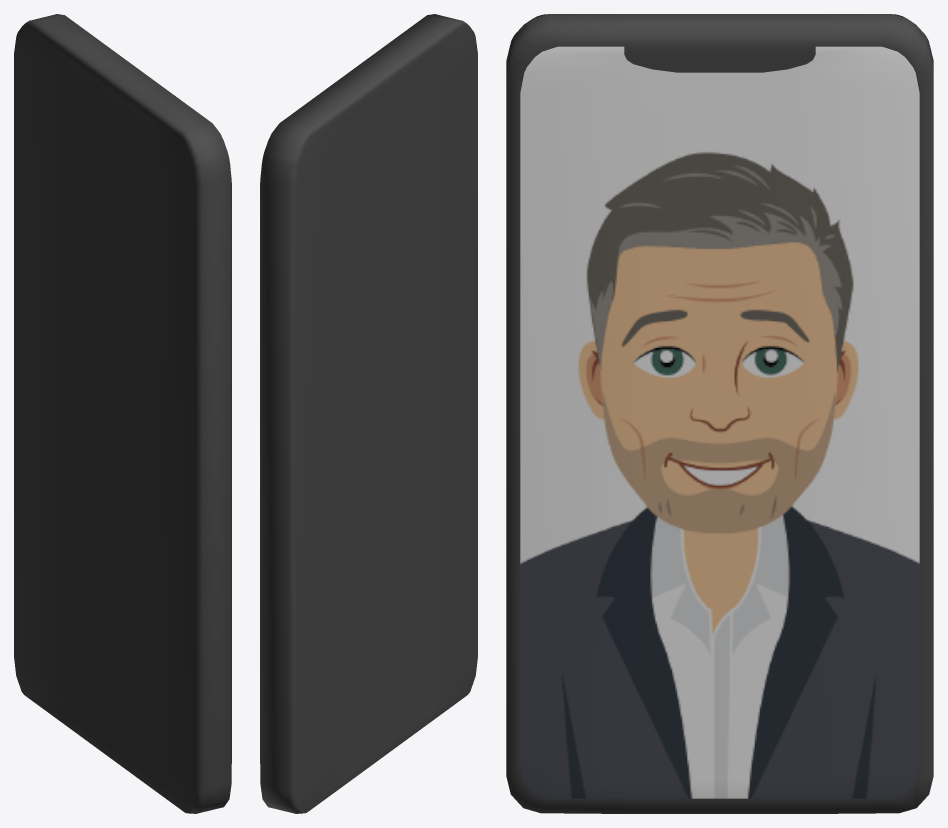
File: Phone.gltf
3 views of the same model, side by side, from view 1: azimuth 30°, elevation 25°; view 2: azimuth 150°, elevation 25°; view 3: azimuth 270°, elevation 25° (orthographic). The views are drawn at different scales.
Visible parts, largest first — view 1: MainPhone; view 2: MainPhone; view 3: MainPhone.
Boxes of the visible parts, box(x1,y1,x2,y2) form: MainPhone: box(14, 14, 231, 813); MainPhone: box(260, 14, 477, 813); MainPhone: box(506, 14, 933, 813).
Size of the model in its own units: 0.2145 by 3.44 by 1.7.
Materials: 2 (1 with a texture image).
